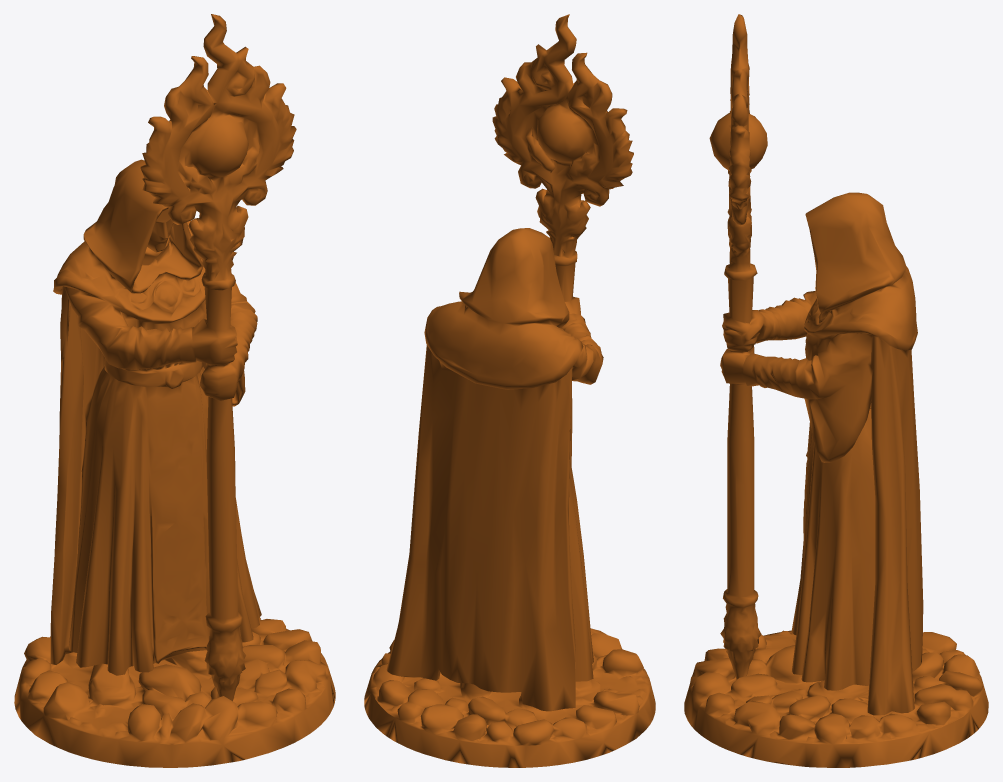
Rendered from Jogador (Monge Elian).glb.
3 views of the same model, side by side, from view 1: azimuth 30°, elevation 25°; view 2: azimuth 150°, elevation 25°; view 3: azimuth 270°, elevation 25° (orthographic). The views are drawn at different scales.
Visible parts, largest first — view 1: monge_clerigo_modelo; view 2: monge_clerigo_modelo; view 3: monge_clerigo_modelo.
Boxes of the visible parts, x1,y1,x2,y2 form: monge_clerigo_modelo: [14, 14, 335, 767]; monge_clerigo_modelo: [364, 14, 655, 767]; monge_clerigo_modelo: [684, 14, 988, 767].
Size of the model in its own units: 0.7209 by 1.81 by 0.7238.
